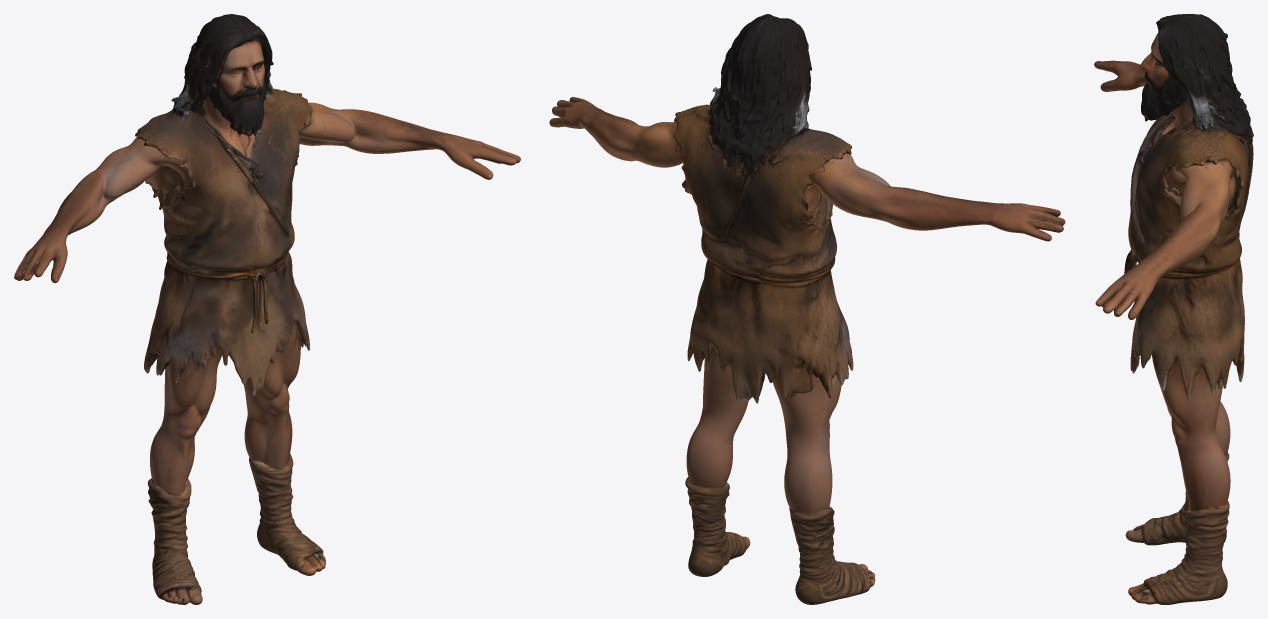
The model's file is modelo+3D+de+hombre+de+las+cavernas.glb.
3 renders of one model, left to right at view 1: azimuth 30°, elevation 25°; view 2: azimuth 150°, elevation 25°; view 3: azimuth 270°, elevation 25°, orthographic.
Parts seen in each view (by area): view 1: tripo_node_d48a3186-5146-480e-ac57-ed1fdffc11a9; view 2: tripo_node_d48a3186-5146-480e-ac57-ed1fdffc11a9; view 3: tripo_node_d48a3186-5146-480e-ac57-ed1fdffc11a9.
Boxes of the visible parts, box(x1,y1,x2,y2) form: tripo_node_d48a3186-5146-480e-ac57-ed1fdffc11a9: box(14, 14, 520, 604); tripo_node_d48a3186-5146-480e-ac57-ed1fdffc11a9: box(549, 14, 1065, 604); tripo_node_d48a3186-5146-480e-ac57-ed1fdffc11a9: box(1094, 14, 1253, 604).
Bounding box in the file's own units: 0.9503 × 1 × 0.2597.
Materials: 1 (1 with a texture image).
